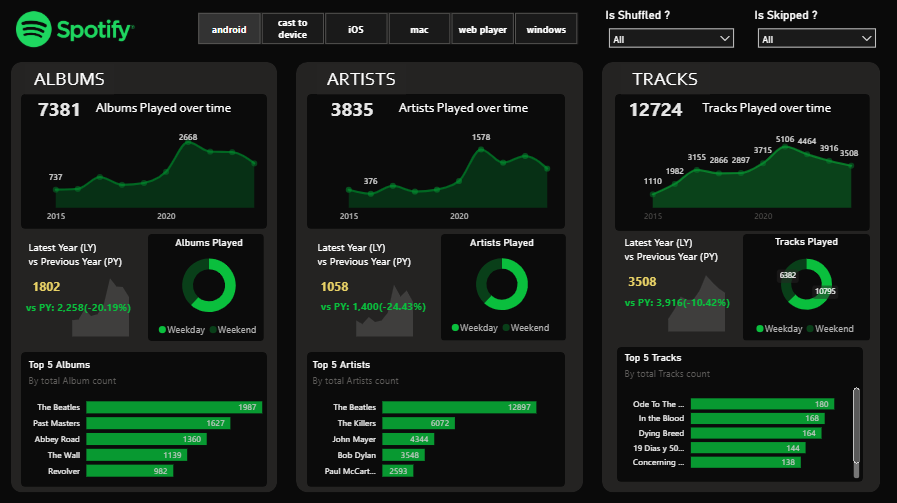

What the dashboard file says about the page in this screenshot:
{"tool":"powerbi","page":{"name":"Overview","canvas":[1280,720],"ordinal":0},"visuals":[{"type":"shape","box":[442.9,335.7,174.3,151.4],"z":0},{"type":"image","box":[11.3,11.3,205.5,70.9],"z":1000},{"type":"shape","box":[22.9,91.4,377.1,610],"z":2000},{"type":"shape","box":[36.9,137.5,348.7,191.3],"z":3000},{"type":"textbox","box":[42.6,95,126.1,42.5],"z":4000},{"type":"card","fields":{"Values":["Sheet1.No of Albums"]},"box":[36.9,137.5,109.1,42.5],"z":5000},{"type":"textbox","box":[130.4,137.5,223.9,42.5],"z":6000},{"type":"areaChart","fields":{"Category":["Date Table.Year"],"Y":["Sheet1.No of Albums"]},"box":[36.9,180,348.7,148.8],"z":7000},{"type":"shape","box":[36.9,503.2,348.7,191.3],"z":8000},{"type":"shape","box":[216.9,335.9,164.4,151.7],"z":9000},{"type":"areaChart","fields":{"Category":["Date Table.Year"],"Y":["Sheet1.No of Albums"]},"box":[50,374.3,164.3,112.9],"z":10000},{"type":"textbox","box":[42.6,338.8,158.7,52.4],"z":11000},{"type":"card","fields":{"Values":["Sheet1.LatestYear"]},"box":[34.3,391.4,77.1,42.9],"z":12000},{"type":"card","fields":{"Values":["Sheet1.YoY albums KPI"]},"box":[34,412.5,168.7,59.5],"z":13000},{"type":"slicer","title":"Is Shuffled ?","fields":{"Values":["Sheet1.shuffle"]},"box":[860,15.7,197.1,65.7],"z":14000},{"type":"donutChart","title":"Albums Played","fields":{"Category":["Date Table.Weekday_weekend"],"Y":["Sheet1.No of Albums"]},"box":[221.1,340.2,164.4,150.2],"z":15000},{"type":"barChart","title":"Top 5 Albums ","fields":{"Category":["Sheet1.album_name"],"Y":["CountNonNull(Sheet1.album_name)"]},"box":[42.9,512.9,342.9,181.4],"z":16000},{"type":"shape","box":[427.1,91.4,407.1,610],"z":17000},{"type":"shape","box":[860,91.4,394.3,610],"z":18000},{"type":"shape","box":[442.9,137.1,365.7,191.4],"z":19000},{"type":"textbox","box":[456.8,95,126.1,42.5],"z":20000},{"type":"card","fields":{"Values":["Sheet1.No of Artists"]},"box":[451.4,137.1,108.6,42.9],"z":21000},{"type":"textbox","box":[560,137.1,224.3,42.9],"z":22000},{"type":"areaChart","fields":{"Category":["Date Table.Year"],"Y":["Sheet1.No of Artists"]},"box":[451.4,180,348.6,148.6],"z":23000},{"type":"shape","box":[442.9,502.9,365.7,191.4],"z":24000},{"type":"shape","box":[631.4,335.7,177.1,151.4],"z":25000},{"type":"areaChart","fields":{"Category":["Date Table.Year"],"Y":["Sheet1.No of Artists"]},"box":[451.4,374.3,164.3,112.9],"z":26000},{"type":"textbox","box":[451.4,338.6,158.6,52.9],"z":27000},{"type":"card","fields":{"Values":["Sheet1.LatestYearArtists"]},"box":[442.9,391.4,77.1,42.9],"z":28000},{"type":"card","fields":{"Values":["Sheet1.YoY artists KPI"]},"box":[451.4,411.4,168.6,58.6],"z":29000},{"type":"donutChart","title":"Artists Played","fields":{"Category":["Date Table.Weekday_weekend"],"Y":["Sheet1.No of Artists"]},"box":[635.7,340,164.3,147.1],"z":30000},{"type":"barChart","title":"Top 5 Artists ","fields":{"Y":["CountNonNull(Sheet1.artist_name)"],"Category":["Sheet1.artist_name"]},"box":[445.7,512.9,362.9,181.4],"z":31000},{"type":"shape","box":[878.6,137.1,361.4,194.3],"z":32000},{"type":"textbox","box":[887.1,94.3,125.7,42.9],"z":33000},{"type":"card","fields":{"Values":["Sheet1.No of Tracks"]},"box":[881.4,137.1,108.6,42.9],"z":34000},{"type":"textbox","box":[990,137.1,224.3,42.9],"z":35000},{"type":"areaChart","fields":{"Category":["Date Table.Year"],"Y":["Sheet1.No of Tracks"]},"box":[882.9,182.9,348.6,145.7],"z":36000},{"type":"shape","box":[881.2,496,348.7,191.3],"z":37000},{"type":"shape","box":[1060,335.7,180,151.4],"z":38000},{"type":"areaChart","fields":{"Category":["Date Table.Year"],"Y":["Sheet1.No of Tracks"]},"box":[894.3,367.1,164.3,112.9],"z":39000},{"type":"textbox","box":[886.8,331.6,158.7,52.4],"z":40000},{"type":"card","fields":{"Values":["Sheet1.LatestYearTracks"]},"box":[878.6,384.3,77.1,42.9],"z":41000},{"type":"card","fields":{"Values":["Sheet1.YoY tracks KPI"]},"box":[882.9,405.7,168.6,58.6],"z":42000},{"type":"donutChart","title":"Tracks Played","fields":{"Category":["Date Table.Weekday_weekend"],"Y":["Sheet1.No of Tracks"]},"box":[1060,338.6,180,150],"z":43000},{"type":"barChart","title":"Top 5 Tracks","fields":{"Category":["Sheet1.track_name"],"Y":["CountNonNull(Sheet1.track_name)"]},"box":[887.1,502.9,342.9,184.3],"z":44000},{"type":"slicer","fields":{"Values":["Sheet1.platform"]},"box":[262.9,15.7,587.1,55.7],"z":45000},{"type":"slicer","title":"Is Skipped ?","fields":{"Values":["Sheet1.skipped"]},"box":[1071.4,15.7,187.1,65.7],"z":46000}]}

Visuals, with their boxes in screenshot pixels (x1, y1, x2, y2), scaled from the page's 1280x720 canvas onto the 897x503 screenshot:
shape: BBox(310, 235, 433, 340)
image: BBox(8, 8, 152, 57)
shape: BBox(16, 64, 280, 490)
shape: BBox(26, 96, 270, 230)
textbox: BBox(30, 66, 118, 96)
card - Sheet1.No of Albums: BBox(26, 96, 102, 126)
textbox: BBox(91, 96, 248, 126)
areaChart - Date Table.Year x Sheet1.No of Albums: BBox(26, 126, 270, 230)
shape: BBox(26, 352, 270, 485)
shape: BBox(152, 235, 267, 341)
areaChart - Date Table.Year x Sheet1.No of Albums: BBox(35, 261, 150, 340)
textbox: BBox(30, 237, 141, 273)
card - Sheet1.LatestYear: BBox(24, 273, 78, 303)
card - Sheet1.YoY albums KPI: BBox(24, 288, 142, 330)
"Is Shuffled ?" slicer: BBox(603, 11, 741, 57)
"Albums Played" donutChart: BBox(155, 238, 270, 343)
"Top 5 Albums " barChart: BBox(30, 358, 270, 485)
shape: BBox(299, 64, 585, 490)
shape: BBox(603, 64, 879, 490)
shape: BBox(310, 96, 567, 229)
textbox: BBox(320, 66, 408, 96)
card - Sheet1.No of Artists: BBox(316, 96, 392, 126)
textbox: BBox(392, 96, 550, 126)
areaChart - Date Table.Year x Sheet1.No of Artists: BBox(316, 126, 561, 230)
shape: BBox(310, 351, 567, 485)
shape: BBox(442, 235, 567, 340)
areaChart - Date Table.Year x Sheet1.No of Artists: BBox(316, 261, 431, 340)
textbox: BBox(316, 237, 427, 274)
card - Sheet1.LatestYearArtists: BBox(310, 273, 364, 303)
card - Sheet1.YoY artists KPI: BBox(316, 287, 434, 328)
"Artists Played" donutChart: BBox(445, 238, 561, 340)
"Top 5 Artists " barChart: BBox(312, 358, 567, 485)
shape: BBox(616, 96, 869, 232)
textbox: BBox(622, 66, 710, 96)
card - Sheet1.No of Tracks: BBox(618, 96, 694, 126)
textbox: BBox(694, 96, 851, 126)
areaChart - Date Table.Year x Sheet1.No of Tracks: BBox(619, 128, 863, 230)
shape: BBox(618, 347, 862, 480)
shape: BBox(743, 235, 869, 340)
areaChart - Date Table.Year x Sheet1.No of Tracks: BBox(627, 256, 742, 335)
textbox: BBox(621, 232, 733, 268)
card - Sheet1.LatestYearTracks: BBox(616, 268, 670, 298)
card - Sheet1.YoY tracks KPI: BBox(619, 283, 737, 324)
"Tracks Played" donutChart: BBox(743, 237, 869, 341)
"Top 5 Tracks" barChart: BBox(622, 351, 862, 480)
slicer - Sheet1.platform: BBox(184, 11, 596, 50)
"Is Skipped ?" slicer: BBox(751, 11, 882, 57)
